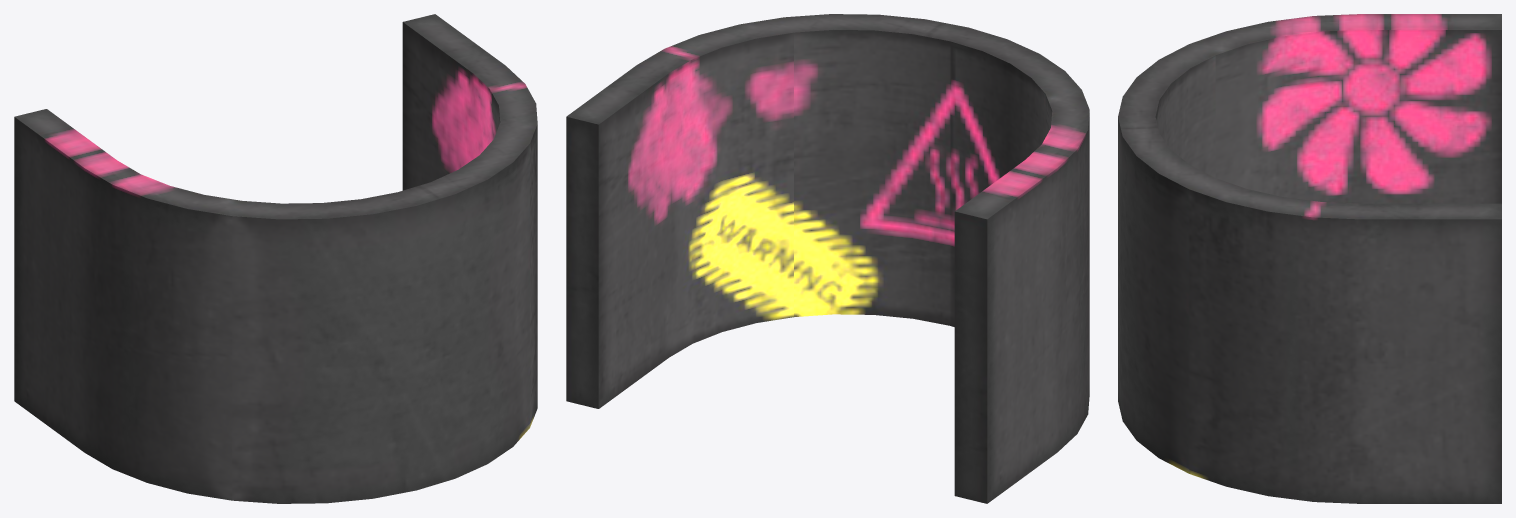
Rendered from duct_vert.fbx.
The picture shows the model from 3 angles, left to right: view 1: azimuth 30°, elevation 25°; view 2: azimuth 150°, elevation 25°; view 3: azimuth 270°, elevation 25°; orthographic projection.
Parts seen in each view (by area): view 1: duct_vert_01.001; view 2: duct_vert_01.001; view 3: duct_vert_01.001.
Boxes of the visible parts, <box> form: duct_vert_01.001: <box>14,14,537,503</box>; duct_vert_01.001: <box>566,14,1089,503</box>; duct_vert_01.001: <box>1118,14,1501,503</box>.
Size of the model in its own units: 2749 by 1776 by 2171.
